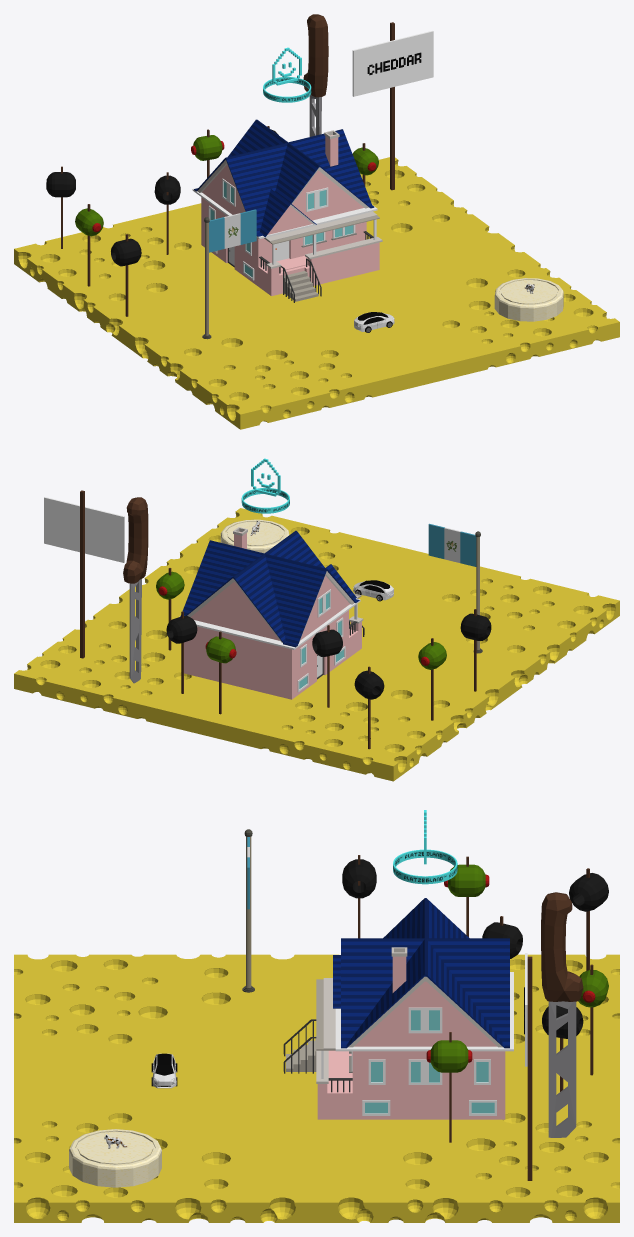
3 views of the same model, one above another, from view 1: azimuth 30°, elevation 25°; view 2: azimuth 150°, elevation 25°; view 3: azimuth 270°, elevation 25° (orthographic). The views are drawn at different scales.
Visible parts, largest first — view 1: Cube.022, Cube.313, Cube.023, Cylinder.016, Cube.024, OBJRANDOM_GUATEMALAN_FLAG, TYPE_PREMIUM, Sphere.017, Sphere.018, Sphere.016, Sphere.020, Sphere.022 (+2 smaller); view 2: Cube.022, Cube.313, Cube.023, Cube.024, OBJRANDOM_GUATEMALAN_FLAG, Cylinder.016, TYPE_PREMIUM, Sphere.021, Sphere.017, Sphere.020, Sphere.022, Sphere.016 (+3 smaller); view 3: Cube.022, Cube.313, Cube.024, Cylinder.016, Cube.023, Sphere.019, Sphere.016, TYPE_PREMIUM, Sphere.017, Sphere.018, Sphere.022, OBJRANDOM_GUATEMALAN_FLAG (+3 smaller).
Boxes of the visible parts, <box> form: Cube.022: <box>14,157,619,429</box>; Cube.313: <box>192,119,382,302</box>; Cube.023: <box>352,22,433,190</box>; Cylinder.016: <box>494,278,563,321</box>; Cube.024: <box>303,14,328,136</box>; OBJRANDOM_GUATEMALAN_FLAG: <box>202,209,256,339</box>; TYPE_PREMIUM: <box>263,47,311,102</box>; Sphere.017: <box>111,234,141,316</box>; Sphere.018: <box>75,204,103,286</box>; Sphere.016: <box>46,166,75,248</box>; Sphere.020: <box>154,172,180,254</box>; Sphere.022: <box>191,129,224,177</box>; Cube.022: <box>14,508,619,781</box>; Cube.313: <box>179,527,364,699</box>; Cube.023: <box>44,490,124,658</box>; Cube.024: <box>123,497,148,683</box>; OBJRANDOM_GUATEMALAN_FLAG: <box>428,523,482,653</box>; Cylinder.016: <box>220,519,289,553</box>; TYPE_PREMIUM: <box>241,458,289,513</box>; Sphere.021: <box>166,611,197,693</box>; Sphere.017: <box>460,609,491,691</box>; Sphere.020: <box>312,625,342,707</box>; Sphere.022: <box>205,631,236,714</box>; Sphere.016: <box>354,666,384,749</box>; Cube.022: <box>14,954,619,1222</box>; Cube.313: <box>283,898,513,1119</box>; Cube.024: <box>541,892,583,1137</box>; Cylinder.016: <box>69,1129,161,1187</box>; Cube.023: <box>524,953,532,1180</box>; Sphere.019: <box>426,1032,472,1142</box>; Sphere.016: <box>569,868,608,970</box>; TYPE_PREMIUM: <box>393,810,457,884</box>; Sphere.017: <box>342,855,376,938</box>; Sphere.018: <box>444,856,489,936</box>; Sphere.022: <box>578,964,608,1075</box>; OBJRANDOM_GUATEMALAN_FLAG: <box>242,829,254,992</box>.
Bounding box in the file's own units: 3917 × 2376 × 4000.
42 materials, 4 textured.
